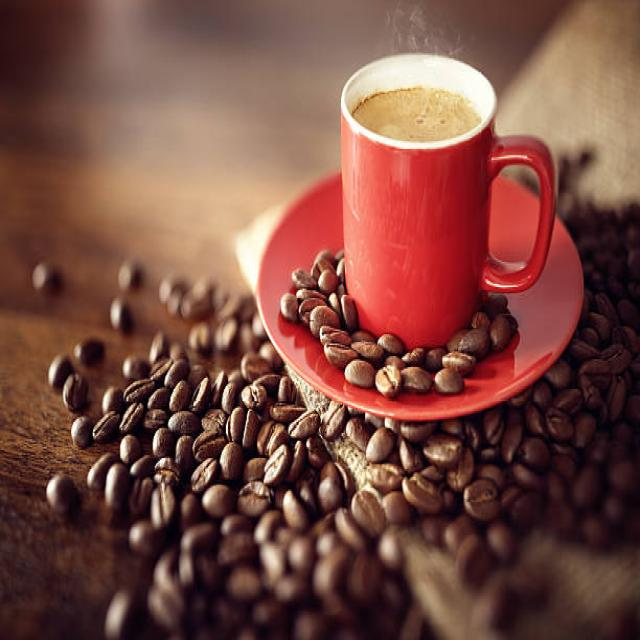Red_cup: (341, 54, 555, 348)
